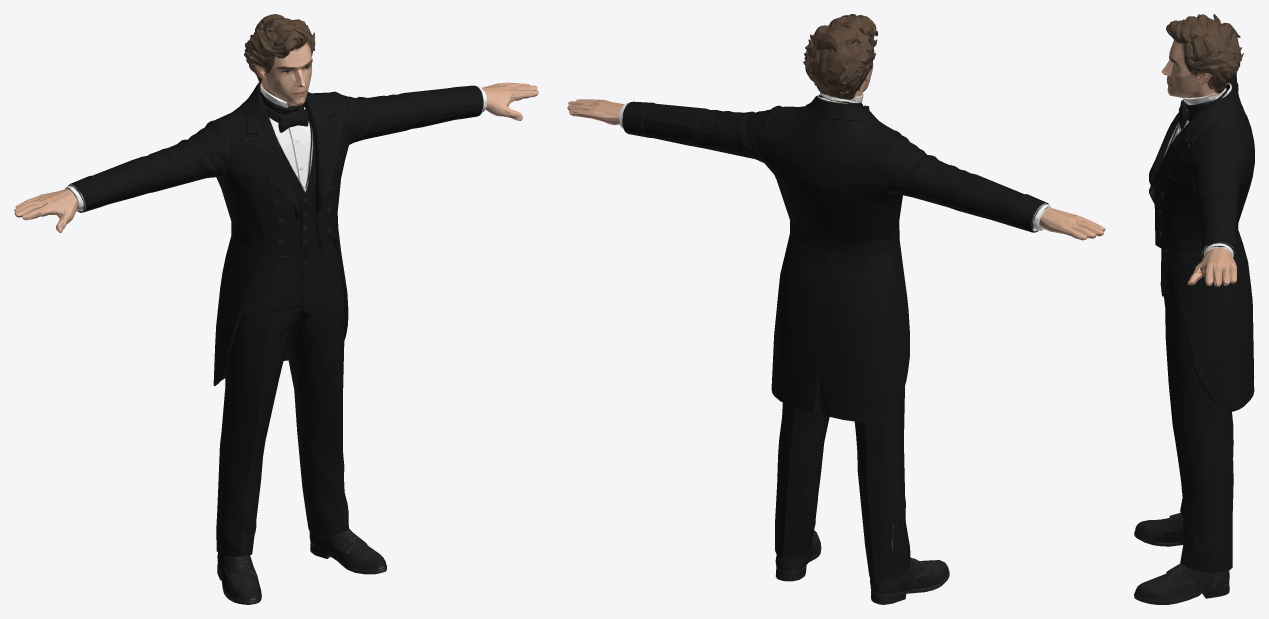
Rendered from david-whitmer-remeshed.glb.
3 views of the same model, side by side, from view 1: azimuth 30°, elevation 25°; view 2: azimuth 150°, elevation 25°; view 3: azimuth 270°, elevation 25° (orthographic). The views are drawn at different scales.
Visible parts, largest first — view 1: output_unwrapped; view 2: output_unwrapped; view 3: output_unwrapped.
Boxes of the visible parts, x1,y1,x2,y2 form: output_unwrapped: [14, 14, 538, 604]; output_unwrapped: [567, 14, 1105, 604]; output_unwrapped: [1134, 14, 1254, 604].
Size of the model in its own units: 1.89 by 1.9 by 0.3787.
Materials: 1 (1 with a texture image).
